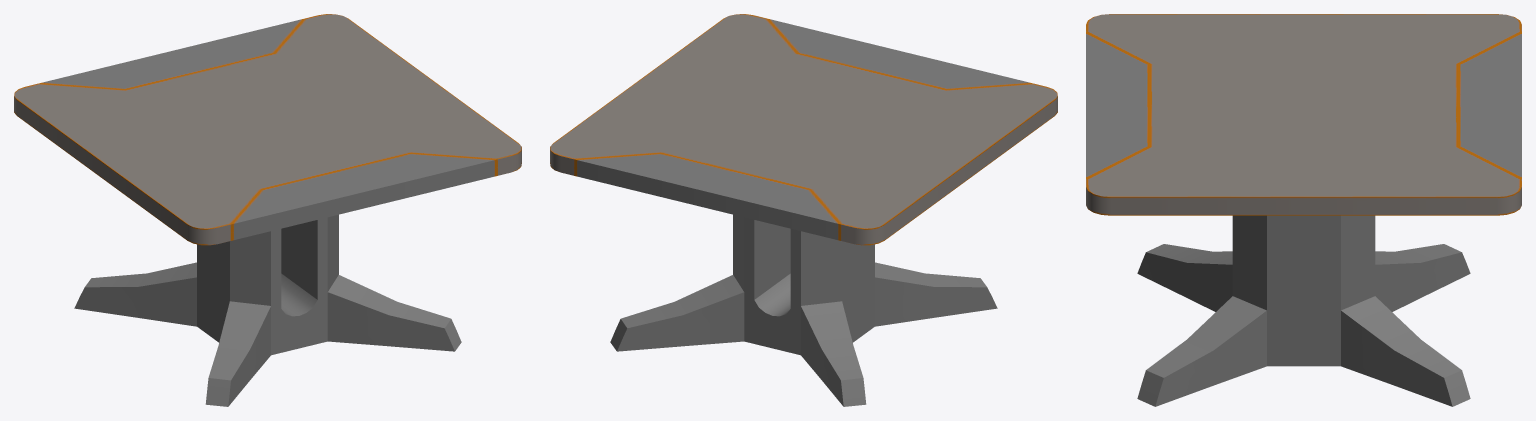
The model's file is table.glb.
3 views of the same model, side by side, from view 1: azimuth 30°, elevation 25°; view 2: azimuth 150°, elevation 25°; view 3: azimuth 270°, elevation 25° (orthographic). The views are drawn at different scales.
Visible parts, largest first — view 1: Plane_low, Cube_low; view 2: Plane_low, Cube_low; view 3: Plane_low, Cube_low.
Part boxes in pixels (box(x1,y1,x2,y2)): Plane_low: box(14, 14, 521, 245); Cube_low: box(74, 214, 461, 406); Plane_low: box(550, 14, 1057, 245); Cube_low: box(610, 214, 997, 406); Plane_low: box(1086, 14, 1521, 215); Cube_low: box(1137, 215, 1470, 406).
Size of the model in its own units: 150 by 88.14 by 151.
1 material, 1 textured.
